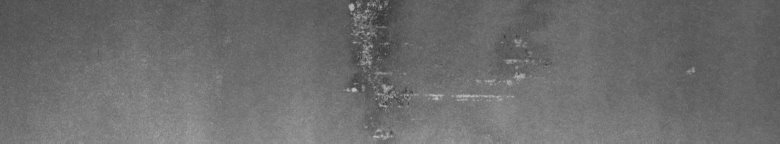hc: (343, 4, 547, 136)
